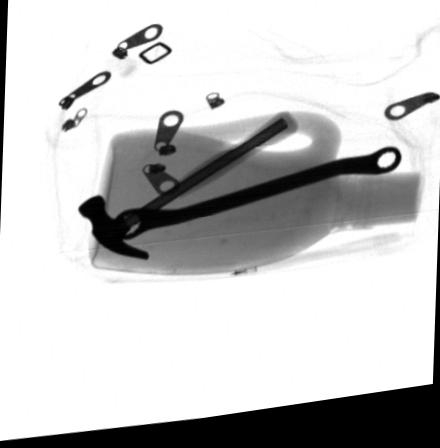Hammer: (76, 120, 301, 266)
Wrench: (113, 159, 400, 245)
